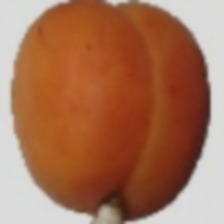apricot: (0, 49, 199, 219)
